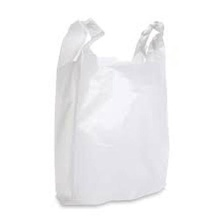plastic_bag: (50, 11, 175, 210)
